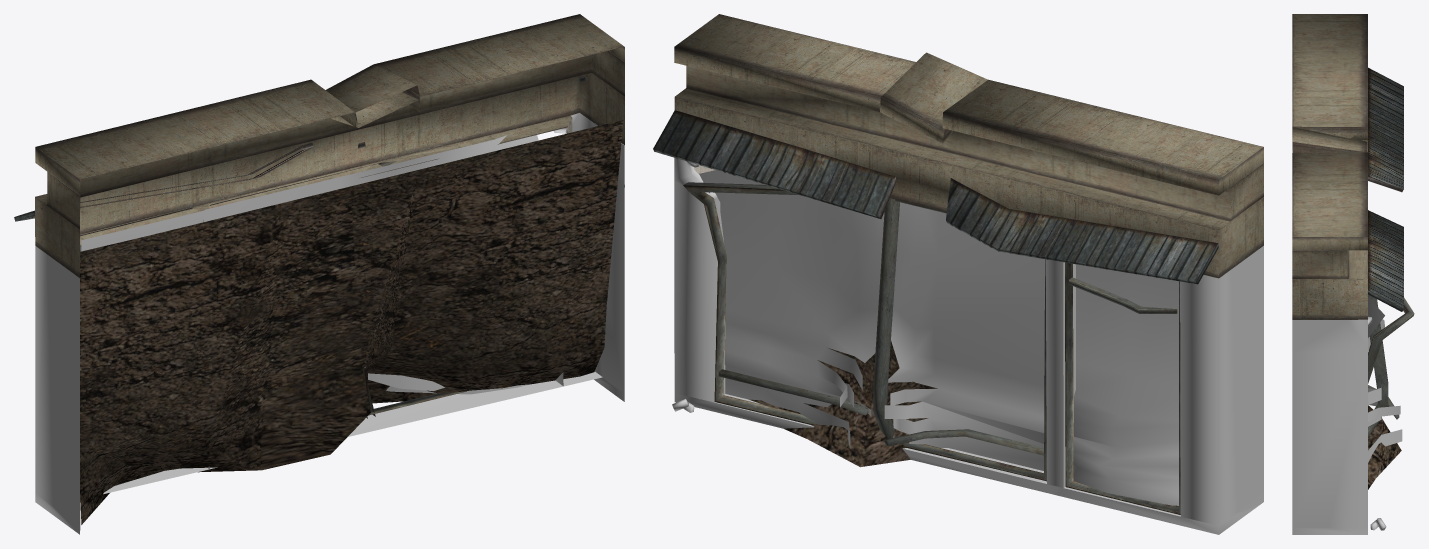
File: Store_front_6_A.fbx
3 renders of one model, left to right at view 1: azimuth 30°, elevation 25°; view 2: azimuth 150°, elevation 25°; view 3: azimuth 270°, elevation 25°, orthographic. The views are drawn at different scales.
Parts seen in each view (by area): view 1: Store_front_6_A; view 2: Store_front_6_A; view 3: Store_front_6_A.
Boxes of the visible parts, <box> form: Store_front_6_A: <box>14,14,624,534</box>; Store_front_6_A: <box>653,14,1263,534</box>; Store_front_6_A: <box>1292,14,1414,534</box>.
Size of the model in its own units: 700 by 451 by 162.
